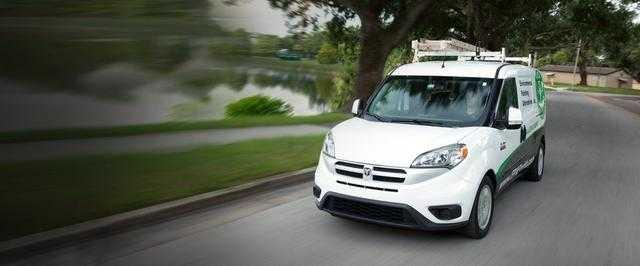car: (313, 38, 549, 257)
